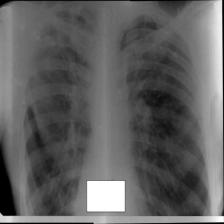tuberculosis: (12, 3, 214, 217)
